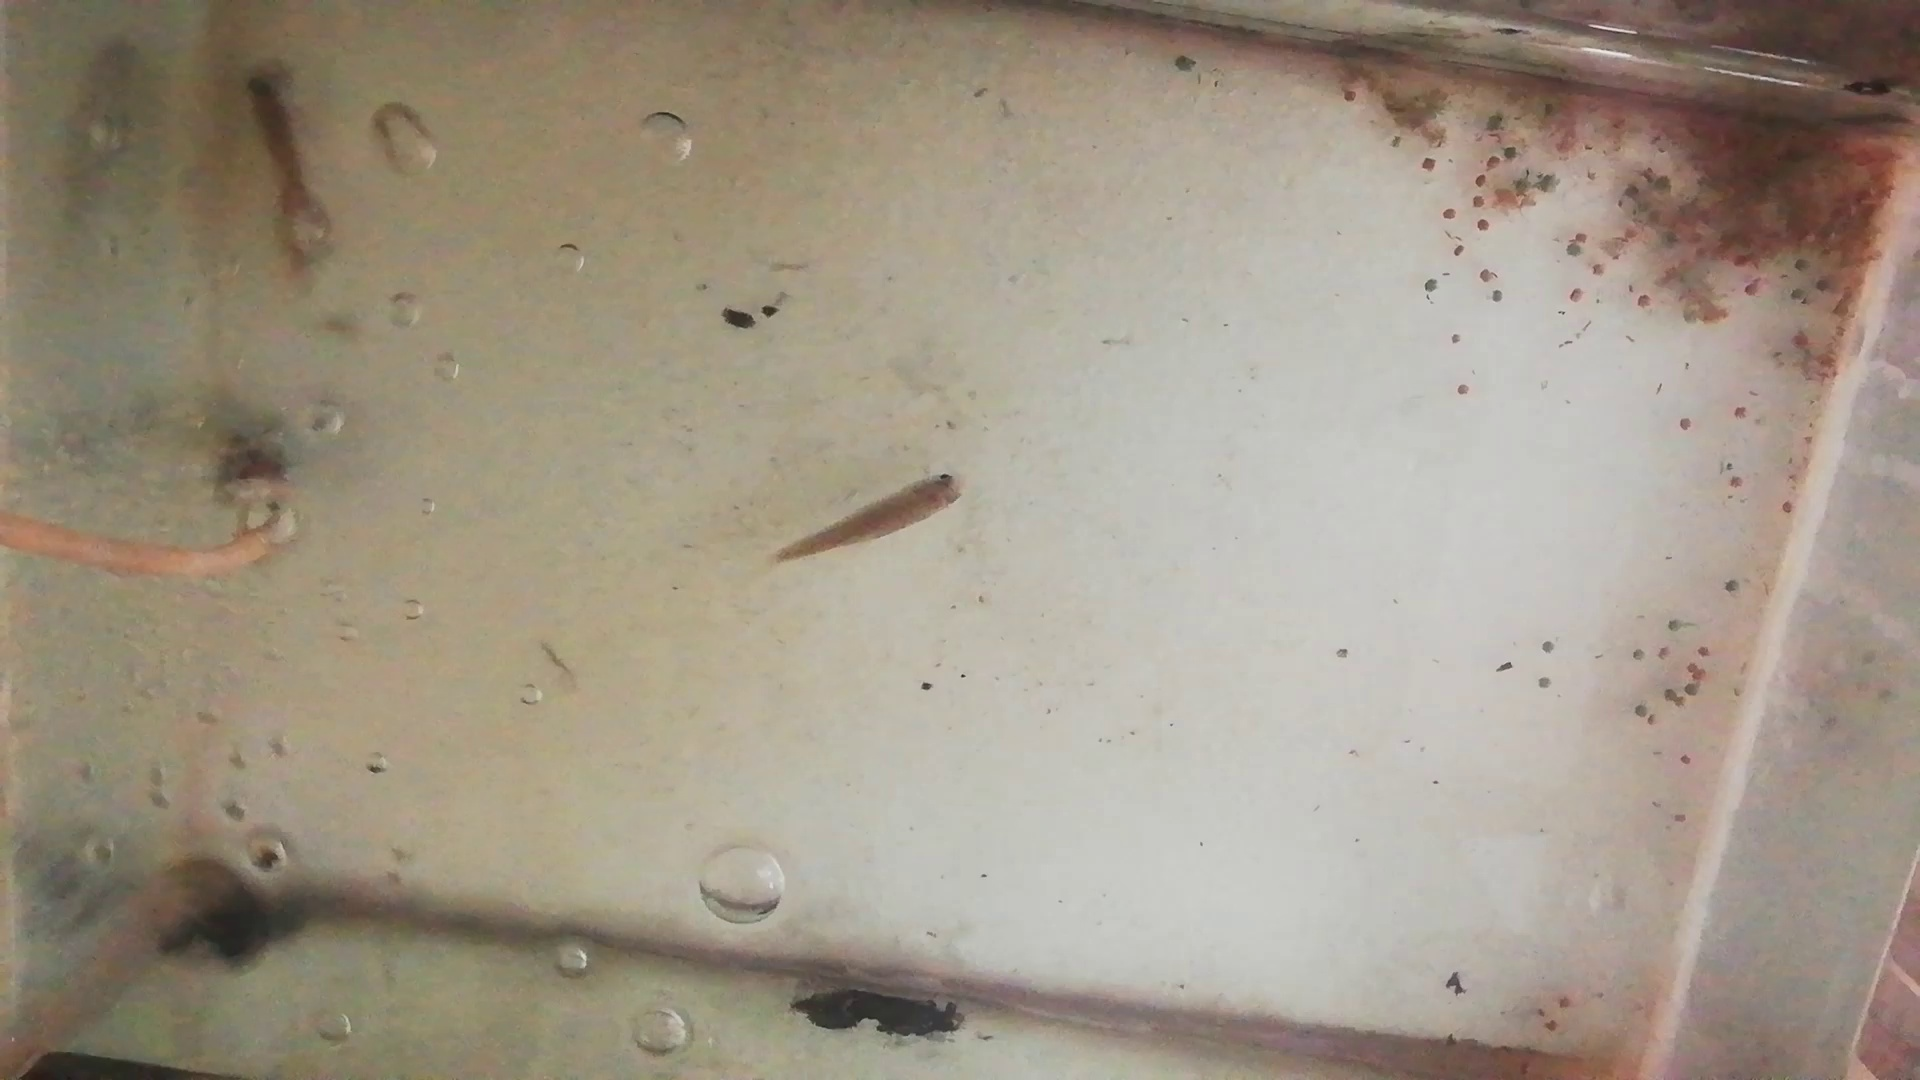fish: (767, 469, 971, 564), (237, 51, 326, 258)
